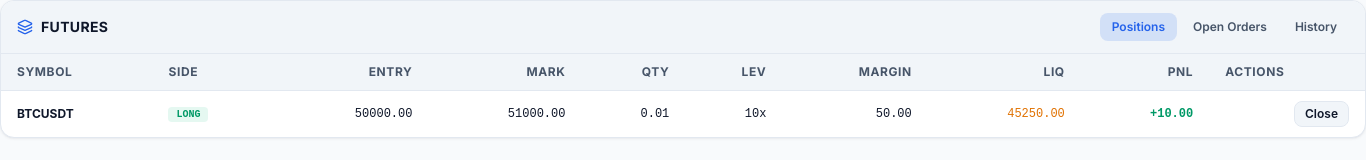
it: PositionsPanel › switches to history tab
Check: the row with test id "position-row" is shown, box 1,90 -> 1365,137
Click the tab "History" at (1316, 27), box 1283,13 -> 1349,41
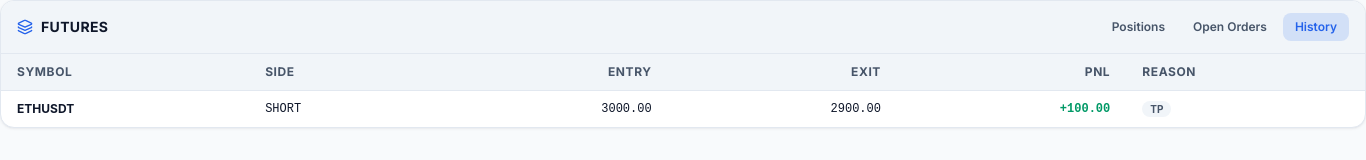
Check: the row with test id "trade-row" is shown, box 1,90 -> 1365,127
Check: the text "TP" is shown, box 1142,101 -> 1172,117
